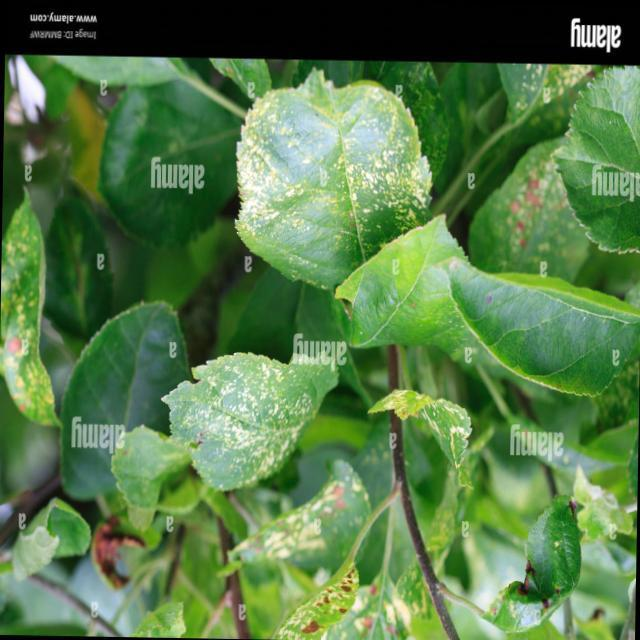Mosaic Virus: (234, 81, 441, 242), (0, 211, 57, 409), (195, 368, 309, 466), (498, 162, 581, 276), (258, 505, 335, 560)
